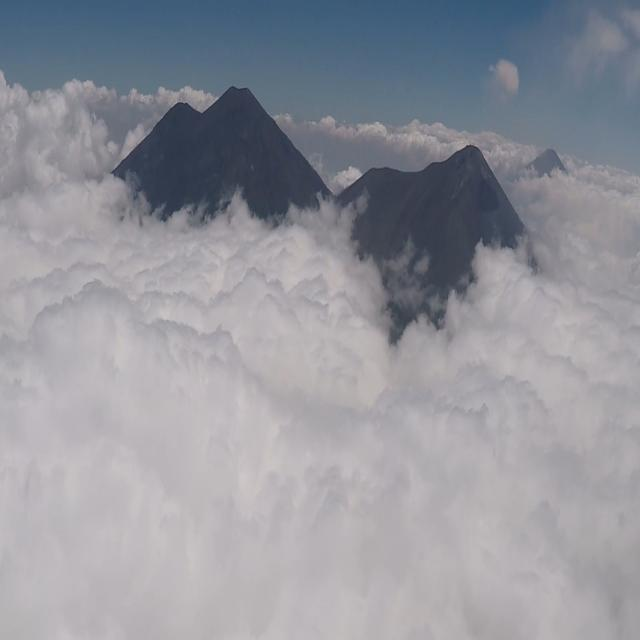Plume: (492, 58, 518, 96)
Summit: (419, 142, 507, 198)
